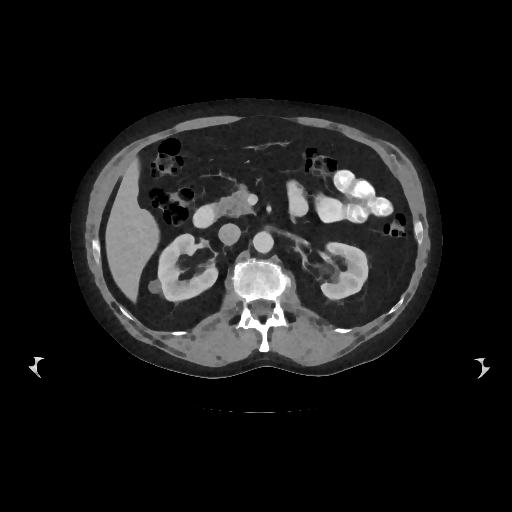Lesion: (143, 275, 167, 298)
